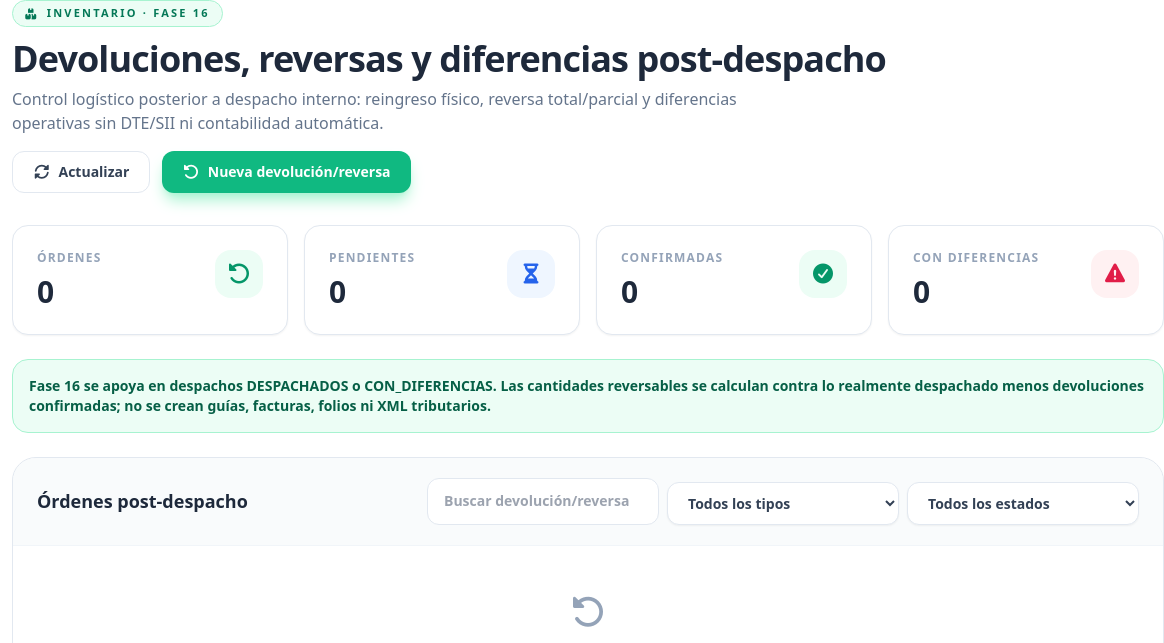
DevolucionesInventario (vista) › muestra el formulario de nueva devolución al hacer clic en el botón
This screenshot has width=1164, height=643.
What coordinates should you click on to do the following:
click the button "Nueva devolución/reversa"
I would click on:
 (286, 172)
Its box is 162,151 -> 411,193.
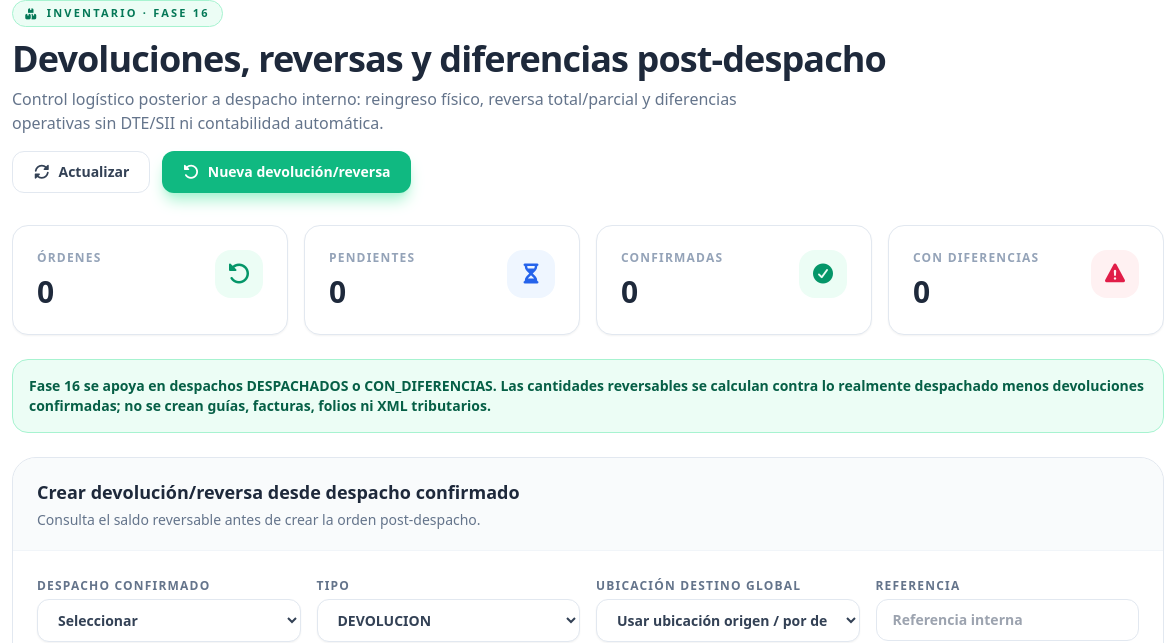
Now the heading "Crear devolución/reversa desde despacho confirmado" is shown, box 37,478 -> 520,506
